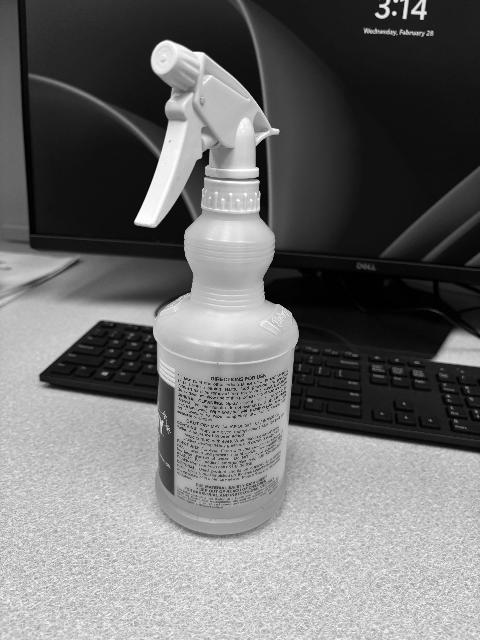StarSpray: (135, 41, 299, 540)
